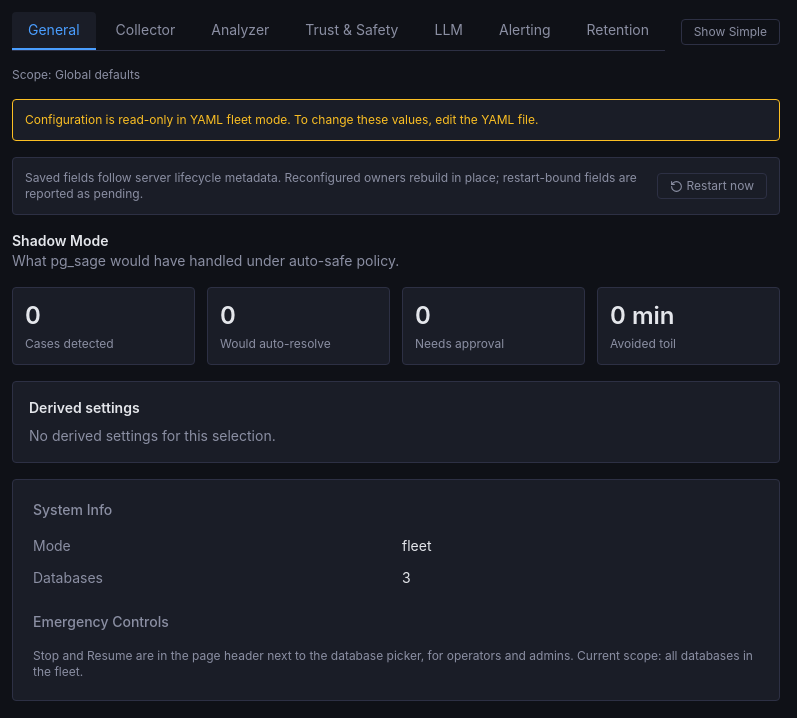
Test case: SettingsPage › renders YAML fleet configuration as readable but not editable
Step 1. Click the button with test id "settings-tab-retention" → (618, 31), box [570,12,665,50]
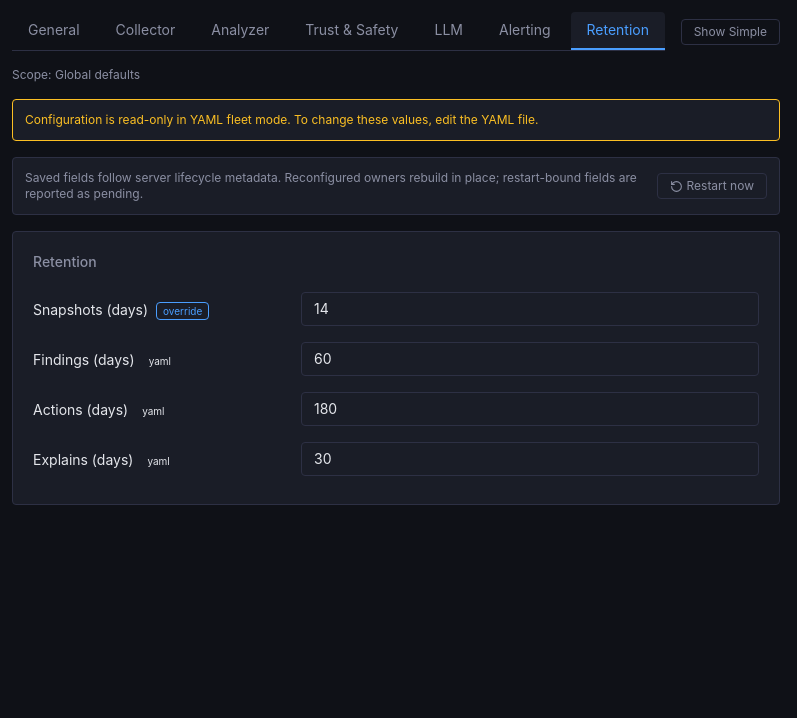
Expected: the text with test id "settings-read-only" shows "edit the YAML file", [435,112,535,127]
Expected: the number field with test id "setting-retention.snapshots_days" is disabled, [301,292,759,326]
